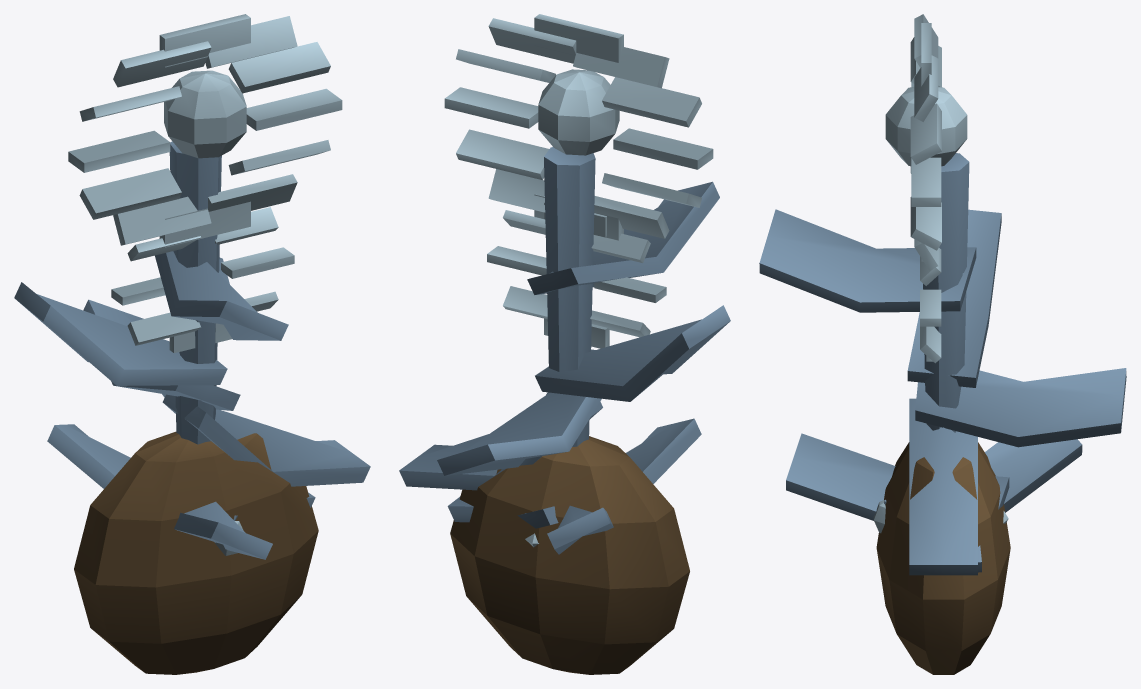
Rendered from crop_frost_flower.glb.
The picture shows the model from 3 angles, left to right: view 1: azimuth 30°, elevation 25°; view 2: azimuth 150°, elevation 25°; view 3: azimuth 270°, elevation 25°; orthographic projection. The views are drawn at different scales.
Parts seen in each view (by area): view 1: seed_mound, fleaf.002, fleaf, fcore, fleaf.003, stalk, fpetal.007, fpetal.001, fpetal.008, sprout_leaf.001, sprout_leaf.002, fpetal.004 (+15 smaller); view 2: seed_mound, stalk, fleaf.002, fleaf.001, fleaf.003, fcore, sprout_leaf.002, fpetal.005, fpetal.011, fleaf, fpetal.006, fpetal (+14 smaller); view 3: seed_mound, fleaf.001, fleaf.003, fleaf, stalk, sprout_leaf.002, fleaf.002, sprout_leaf.001, fcore, fpetal, fpetal.001, fpetal.011 (+5 smaller).
Boxes of the visible parts, x1,y1,x2,y2 form: seed_mound: [74, 431, 318, 674]; fleaf.002: [14, 282, 227, 385]; fleaf: [162, 394, 370, 486]; fcore: [164, 70, 246, 158]; fleaf.003: [155, 238, 288, 340]; stalk: [169, 141, 221, 444]; fpetal.007: [79, 168, 181, 219]; fpetal.001: [228, 42, 330, 93]; fpetal.008: [113, 196, 211, 245]; sprout_leaf.001: [47, 424, 237, 520]; sprout_leaf.002: [174, 501, 272, 559]; fpetal.004: [113, 41, 211, 87]; seed_mound: [450, 436, 689, 674]; stalk: [544, 147, 595, 446]; fleaf.002: [535, 305, 730, 401]; fleaf.001: [437, 392, 601, 475]; fleaf.003: [527, 181, 719, 294]; fcore: [538, 69, 619, 155]; sprout_leaf.002: [517, 418, 701, 528]; fpetal.005: [602, 77, 701, 127]; fpetal.011: [456, 129, 549, 179]; fleaf: [399, 401, 602, 490]; fpetal.006: [613, 128, 713, 169]; fpetal: [444, 87, 538, 128]; seed_mound: [876, 442, 1010, 674]; fleaf.001: [915, 368, 1126, 447]; fleaf.003: [759, 209, 976, 312]; fleaf: [909, 398, 977, 575]; stalk: [923, 153, 969, 432]; sprout_leaf.002: [786, 433, 1009, 520]; fleaf.002: [907, 209, 1001, 387]; sprout_leaf.001: [884, 439, 1082, 512]; fcore: [885, 86, 967, 166]; fpetal: [911, 157, 941, 206]; fpetal.001: [910, 103, 941, 164]; fpetal.011: [910, 197, 941, 250].
Bounding box in the file's own units: 0.4028 × 0.7975 × 0.4267.
